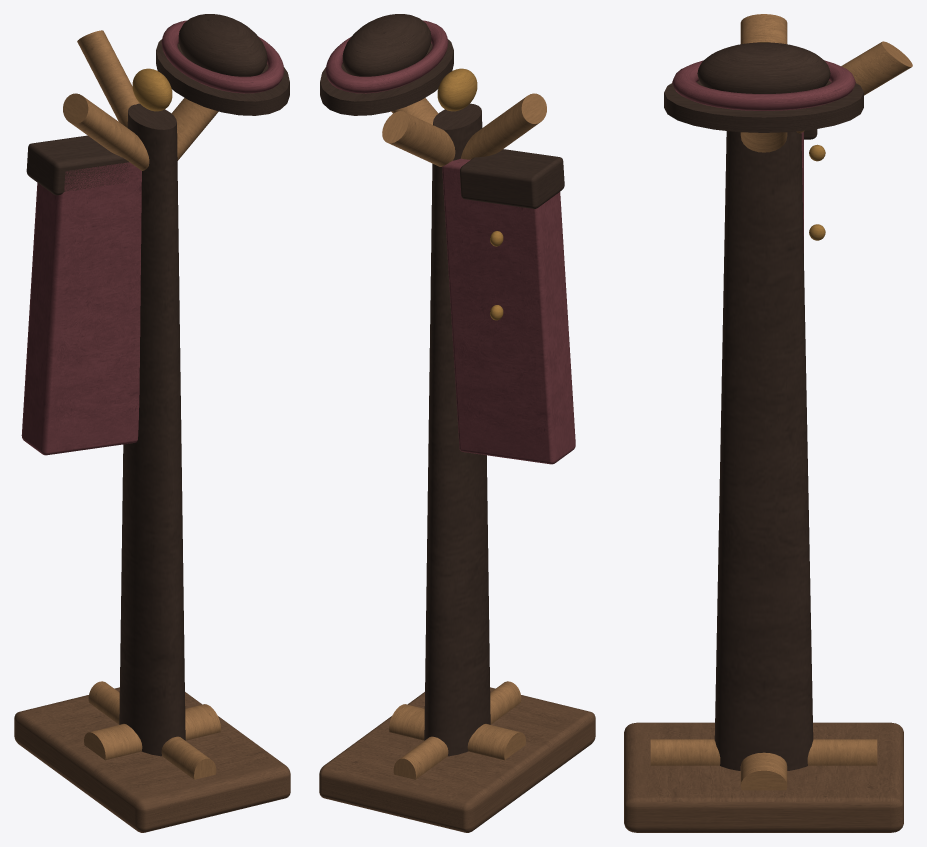
The model's file is coat_rack.glb.
3 renders of one model, left to right at view 1: azimuth 30°, elevation 25°; view 2: azimuth 150°, elevation 25°; view 3: azimuth 270°, elevation 25°, orthographic. The views are drawn at different scales.
Visible parts, largest first — view 1: coat_rack; view 2: coat_rack; view 3: coat_rack.
Boxes of the visible parts, x1=… form: coat_rack: x1=14, y1=14, x2=290, y2=832; coat_rack: x1=319, y1=14, x2=595, y2=832; coat_rack: x1=624, y1=14, x2=912, y2=832.
Bounding box in the file's own units: 0.6 × 1.8 × 0.6.
Materials: 1 (1 with a texture image).
